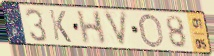3: (25, 6, 49, 43)
8: (164, 15, 188, 49)
H: (75, 10, 108, 46)
K: (48, 8, 73, 44)
O: (138, 12, 166, 49)
V: (101, 9, 129, 49)
